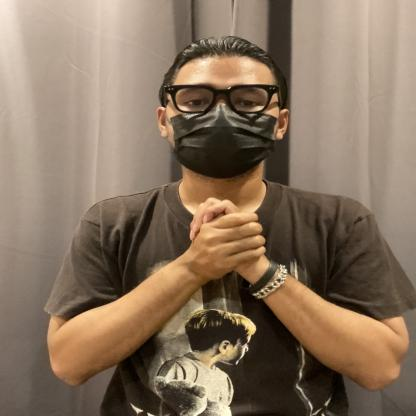Grieve: (69, 184, 369, 294)
